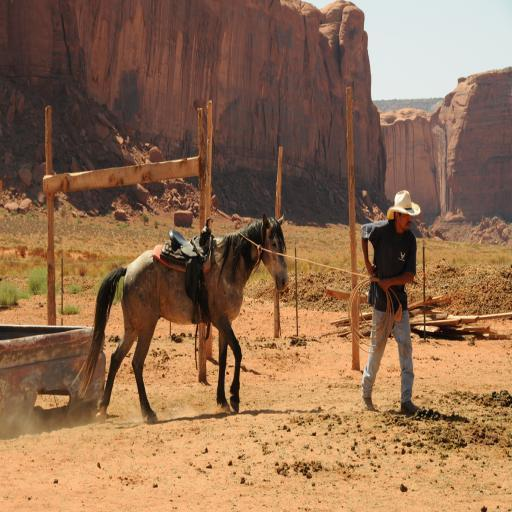horse: (71, 214, 290, 428)
